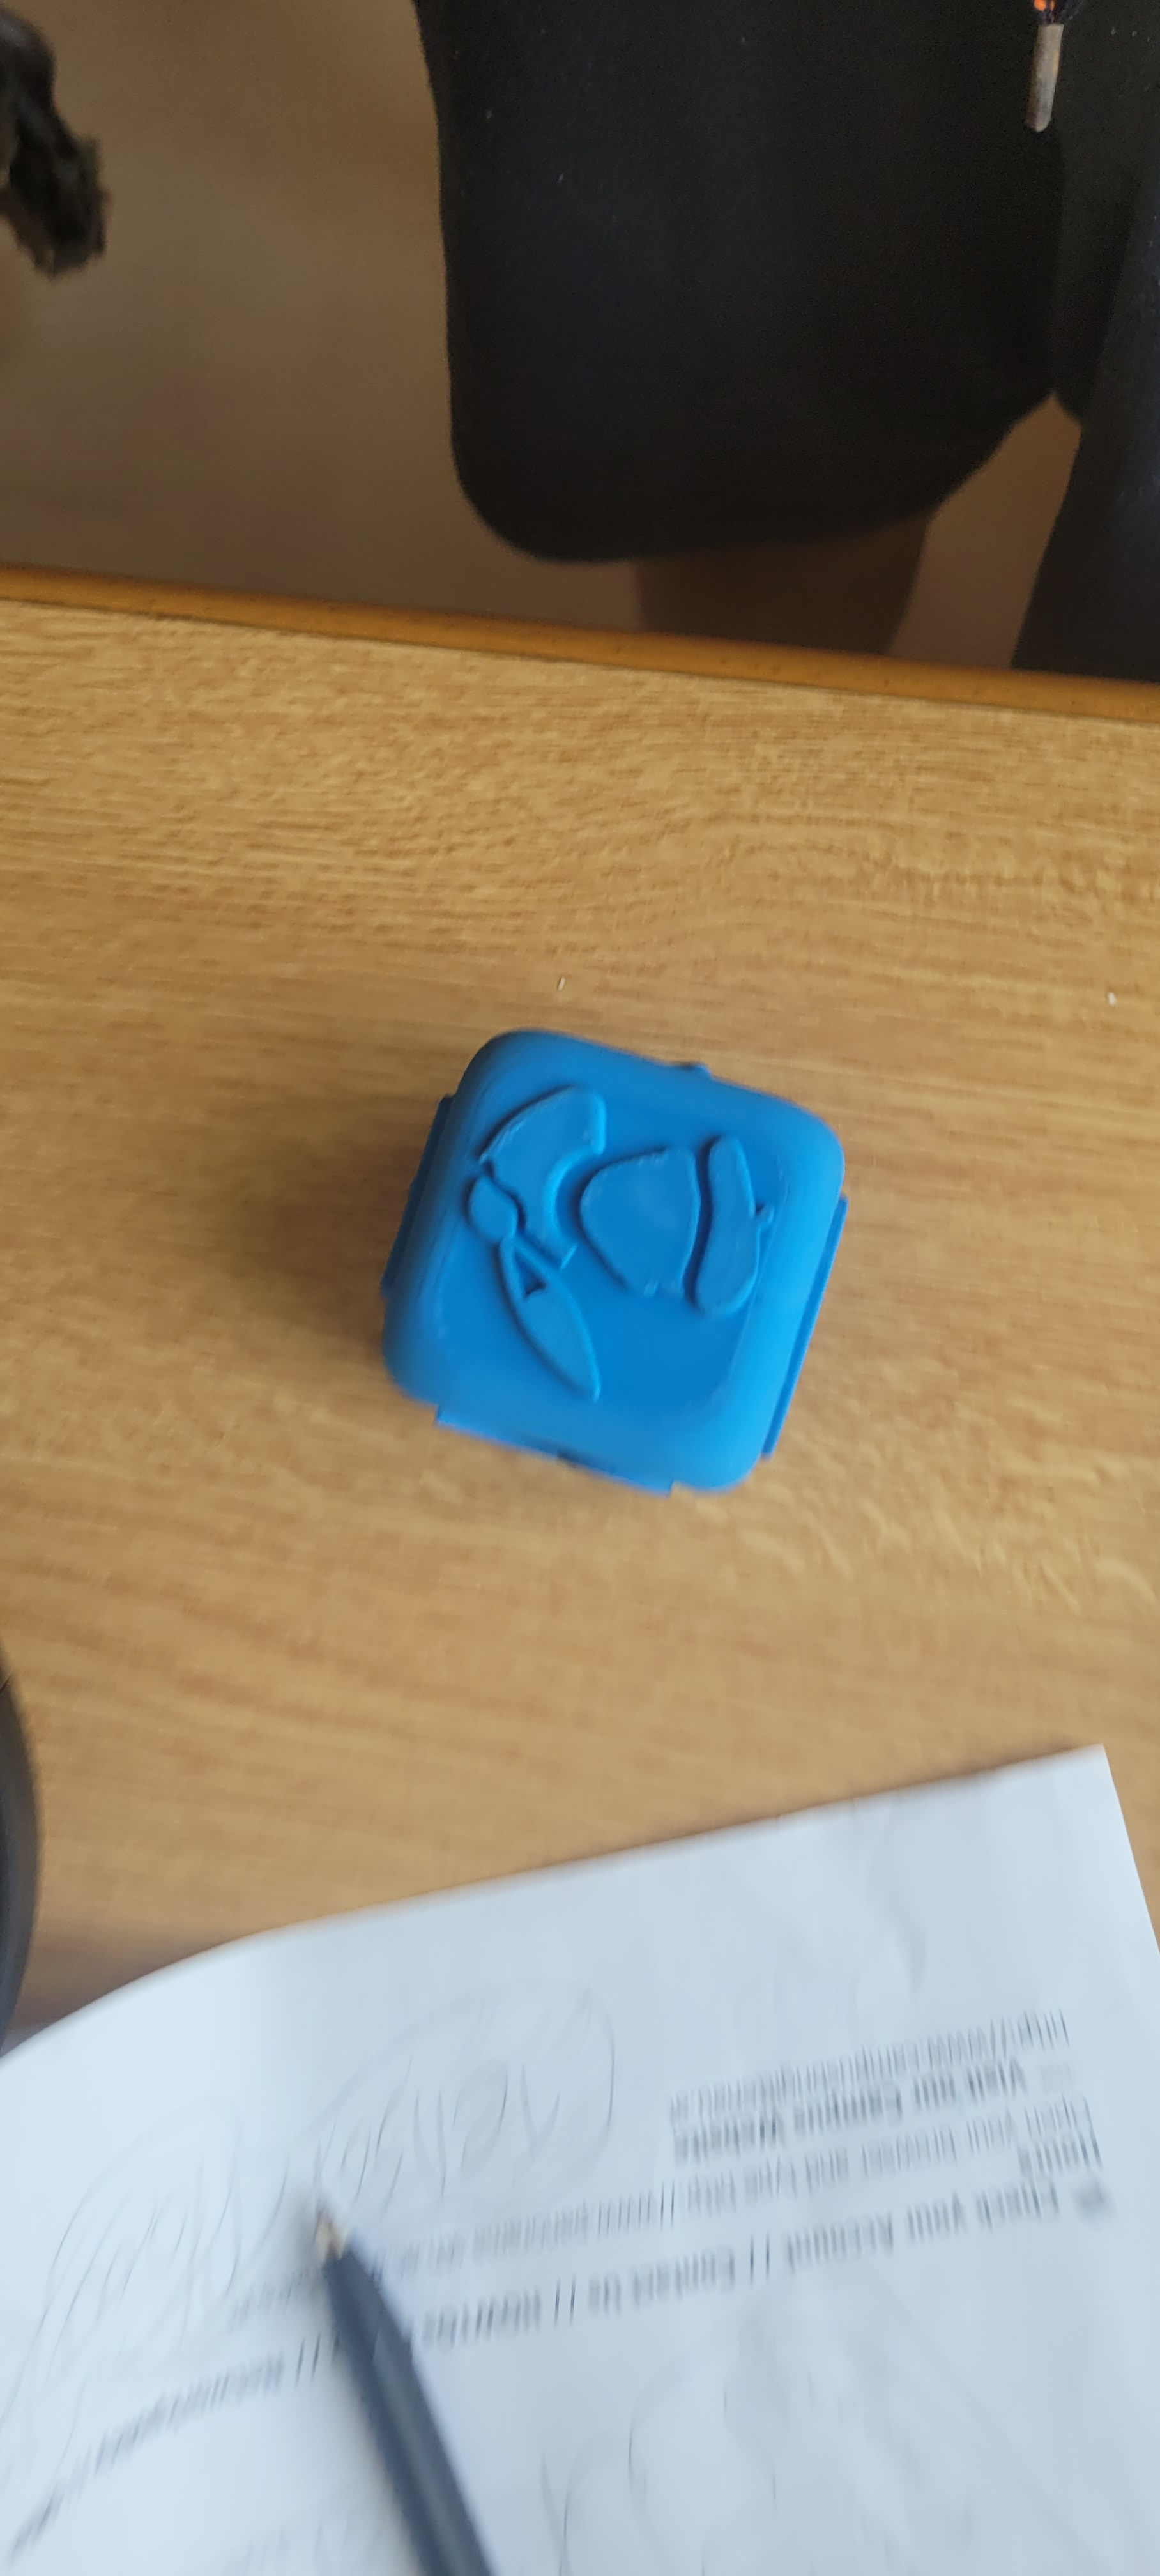Artist_Info: (422, 951, 818, 1490)
